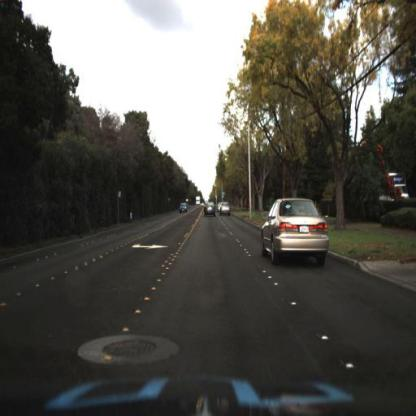car: (258, 189, 333, 267), (200, 197, 220, 221), (218, 197, 236, 223), (220, 203, 233, 217), (178, 201, 190, 216), (217, 202, 224, 217)
